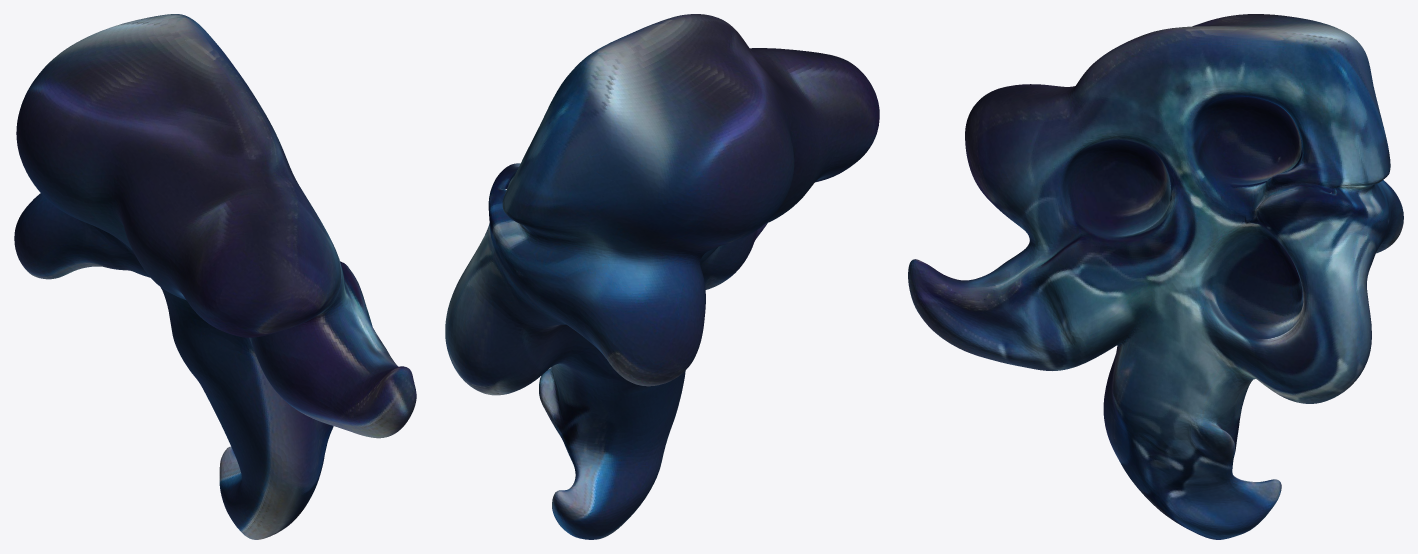
The model's file is alien_toy.glb.
3 renders of one model, left to right at view 1: azimuth 30°, elevation 25°; view 2: azimuth 150°, elevation 25°; view 3: azimuth 270°, elevation 25°, orthographic. The views are drawn at different scales.
Size of the model in its own units: 1.17 by 1.99 by 1.85.
Materials: 1 (1 with a texture image).
